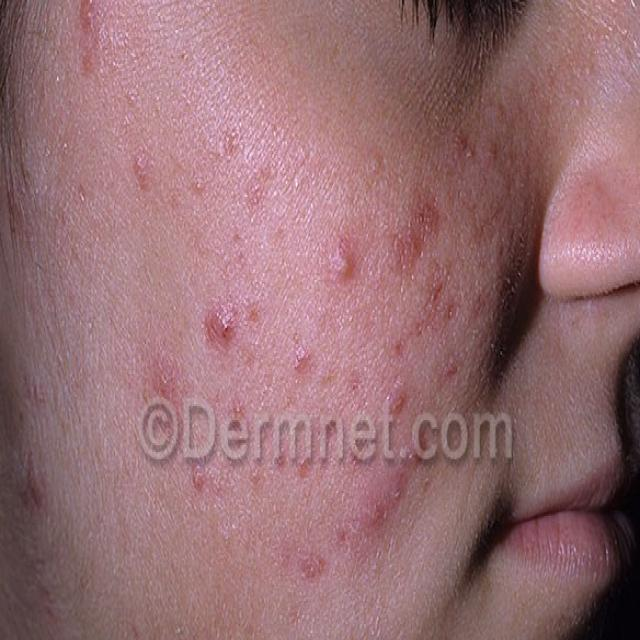Acne: (169, 219, 464, 613), (68, 0, 175, 207)
